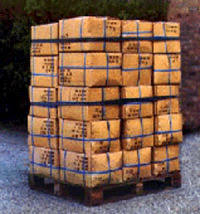box: (86, 16, 122, 52), (86, 52, 122, 87), (87, 87, 122, 120), (122, 117, 156, 150), (89, 153, 123, 186), (57, 119, 90, 153), (27, 115, 59, 149), (27, 145, 58, 180), (58, 150, 89, 185), (57, 86, 87, 122), (122, 53, 154, 86), (122, 19, 153, 52), (122, 87, 155, 118), (88, 122, 122, 152), (123, 147, 154, 179), (28, 85, 58, 118), (57, 52, 86, 86), (29, 55, 58, 88), (58, 16, 85, 51), (153, 53, 182, 85), (153, 21, 181, 53), (154, 114, 182, 145), (30, 22, 58, 53), (153, 86, 181, 115), (154, 146, 181, 173)
pallet: (25, 170, 183, 207)
